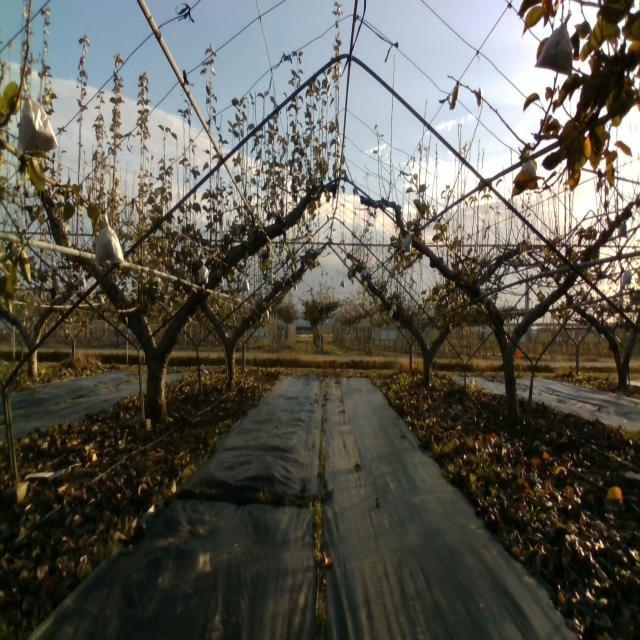pearbags: (15, 84, 60, 158), (535, 9, 575, 74), (94, 213, 125, 268), (522, 158, 536, 182), (400, 229, 413, 252)
